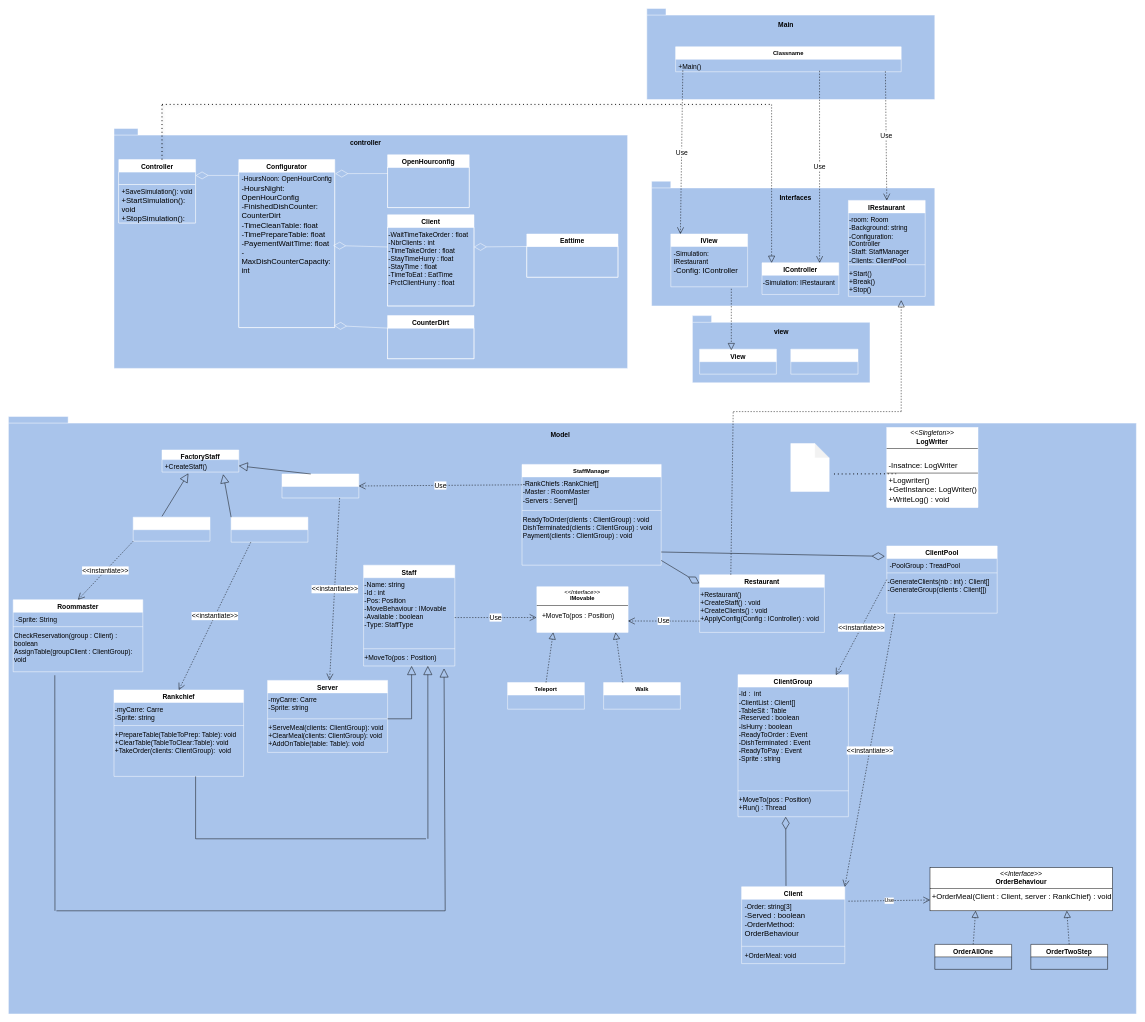
This 1145x1022 diagram has some shape labels left out. Here are the shapes that lost their labels. From the top down, the centre of each, then its label:
At (157,178): "+ Config: Configurator".
At (428,187): "-OpenNoon : int -CloseNoon : int -OpenPublic : int -ClosePublic : int".
At (572,261): "-Entry: float -Dish: float -Dessert: float".
At (430,343): "-PlateCapacity : int -SilverwareCapacity: int -GlassCapacity : int".
At (824,361): "WindowsForm".
At (320,486): "FactoryServer".
At (809,467): "Logfile".
At (171,529): "FactoryRoomMaster".
At (269,529): "FactoryRankChief".
